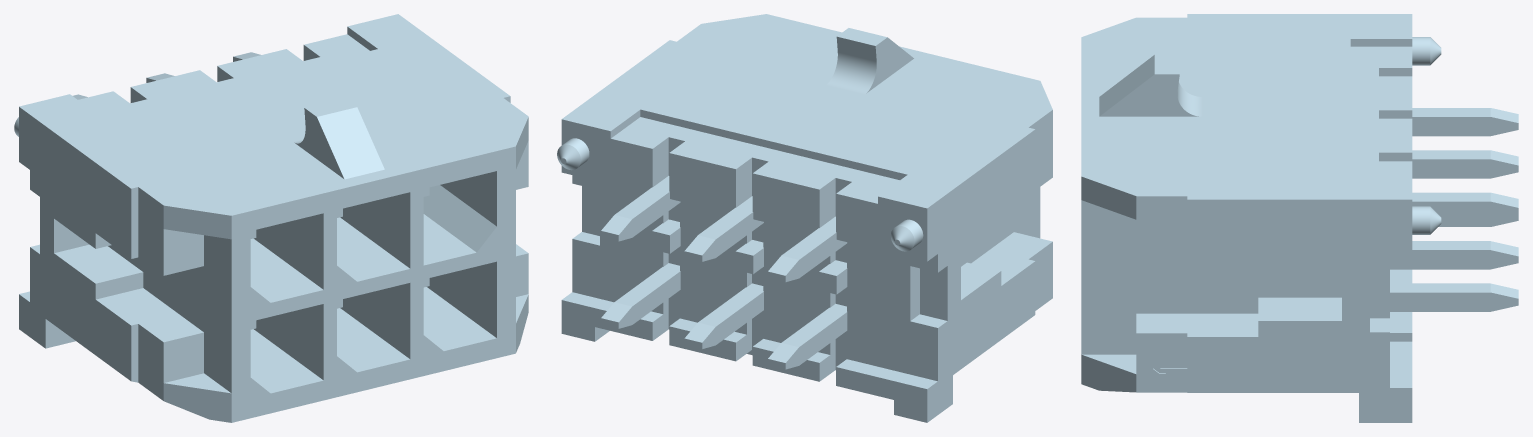
File: Open_CASCADE_STEP_translator_7_5_1_88_2_1.gltf
3 renders of one model, left to right at view 1: azimuth 30°, elevation 25°; view 2: azimuth 150°, elevation 25°; view 3: azimuth 270°, elevation 25°, orthographic. The views are drawn at different scales.
Parts seen in each view (by area): view 1: mesh92516, mesh92534, mesh92479, mesh92482, mesh92361, mesh92554, mesh92547, mesh92559, mesh92561, mesh92541, mesh92520, mesh92470 (+23 smaller); view 2: mesh92516, mesh92479, mesh92441, mesh92361, mesh92421, mesh92461, mesh92456, mesh92333, mesh92371, mesh92359, mesh92348, mesh92417 (+35 smaller); view 3: mesh92516, mesh92498, mesh92501, mesh92361, mesh92503, mesh92511, mesh92492, mesh92394, mesh92519, mesh92454, mesh92494, mesh92355 (+20 smaller).
Part boxes in pixels (box(x1,y1,x2,y2)): mesh92516: box(19, 14, 528, 215); mesh92534: box(231, 146, 515, 422); mesh92479: box(19, 107, 131, 380); mesh92482: box(108, 235, 231, 392); mesh92361: box(78, 34, 369, 116); mesh92554: box(340, 192, 410, 268); mesh92547: box(340, 283, 410, 358); mesh92559: box(254, 213, 323, 289); mesh92561: box(254, 304, 323, 379); mesh92541: box(427, 261, 496, 337); mesh92520: box(317, 107, 384, 179); mesh92470: box(96, 288, 203, 342); mesh92516: box(562, 14, 1052, 208); mesh92479: box(927, 130, 1035, 422); mesh92441: box(847, 242, 937, 381); mesh92361: box(611, 117, 899, 203); mesh92421: box(572, 175, 663, 313); mesh92461: box(763, 222, 830, 354); mesh92456: box(680, 201, 746, 334); mesh92333: box(561, 119, 652, 192); mesh92371: box(836, 193, 927, 261); mesh92359: box(752, 173, 819, 233); mesh92348: box(669, 153, 735, 212); mesh92417: box(836, 367, 927, 422); mesh92516: box(1081, 14, 1412, 199); mesh92498: box(1187, 199, 1412, 422); mesh92501: box(1081, 200, 1341, 354); mesh92361: box(1350, 46, 1412, 174); mesh92503: box(1136, 196, 1187, 266); mesh92511: box(1136, 333, 1187, 392); mesh92492: box(1136, 313, 1258, 336); mesh92394: box(1390, 292, 1518, 311); mesh92519: box(1100, 74, 1198, 116); mesh92454: box(1390, 250, 1518, 269); mesh92494: box(1258, 297, 1341, 320); mesh92355: box(1412, 159, 1518, 178).
Bounding box in the file's own units: 0.0132 × 0.00877 × 0.0131.
